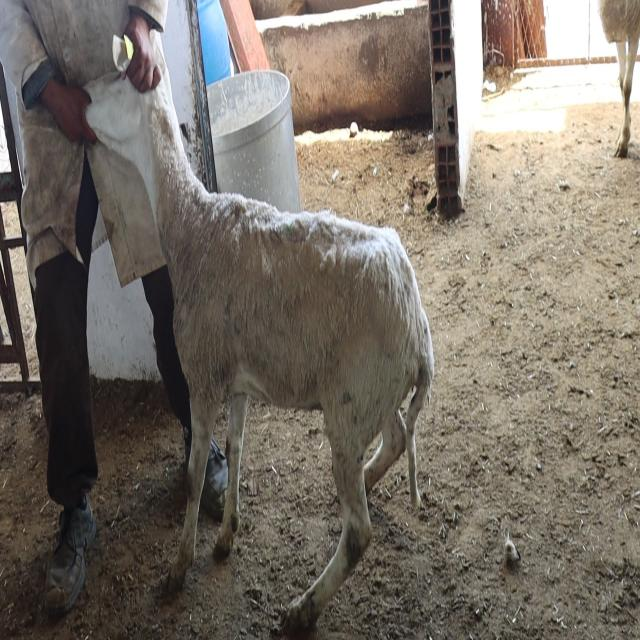Score_1: (86, 66, 434, 630)
